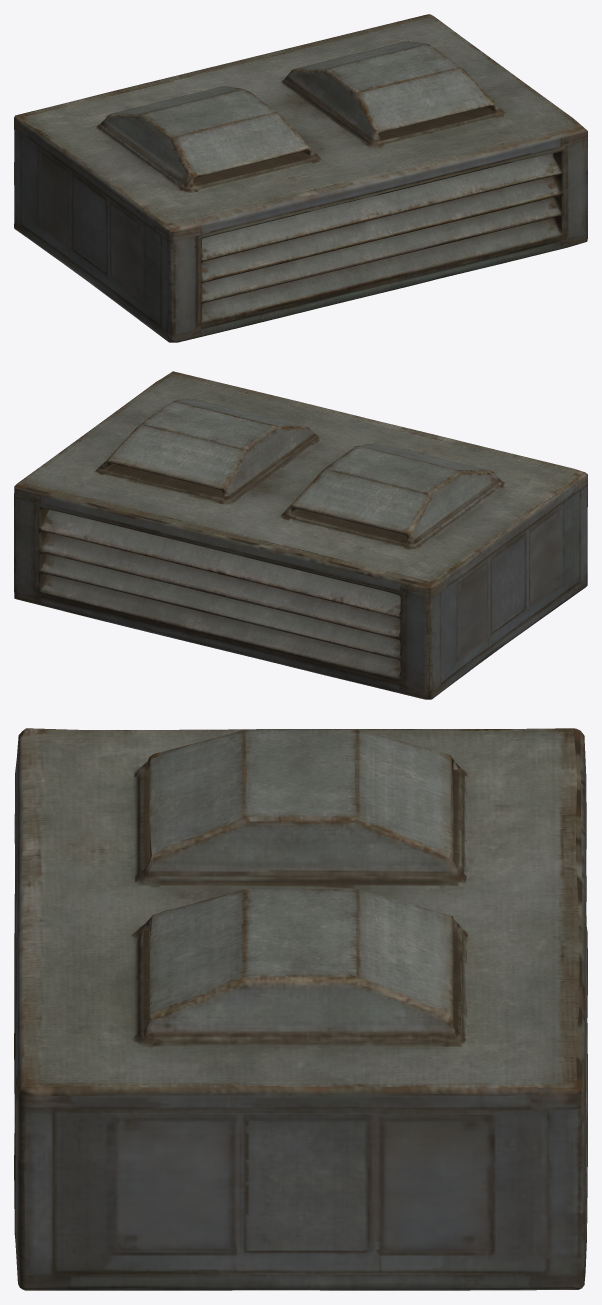
Rendered from shelter_roof_air_handler.glb.
The picture shows the model from 3 angles, top to bottom: view 1: azimuth 30°, elevation 25°; view 2: azimuth 150°, elevation 25°; view 3: azimuth 270°, elevation 25°; orthographic projection. The views are drawn at different scales.
Visible parts, largest first — view 1: RoofAirHandler; view 2: RoofAirHandler; view 3: RoofAirHandler.
Part boxes in pixels (x1,y1,x2,y2): RoofAirHandler: [14, 14, 587, 342]; RoofAirHandler: [14, 371, 587, 699]; RoofAirHandler: [14, 728, 587, 1290].
Size of the model in its own units: 6 by 2 by 4.
Materials: 1 (1 with a texture image).
